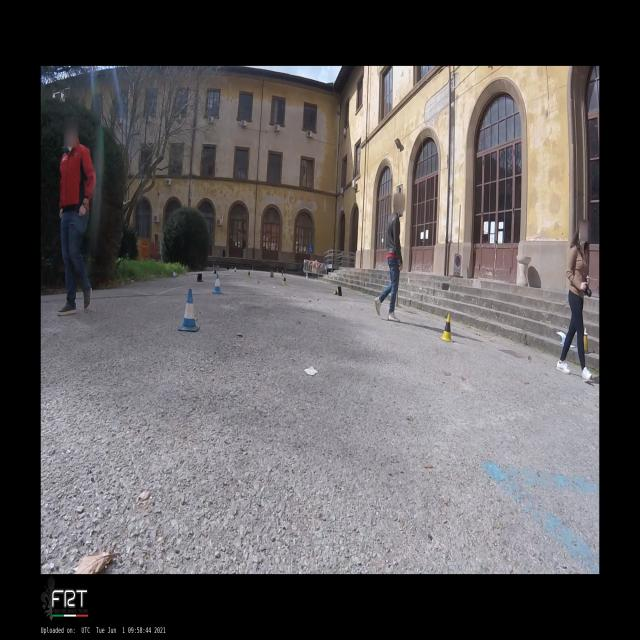blue_cone: (178, 289, 200, 332), (212, 274, 222, 294), (173, 270, 176, 278), (234, 266, 237, 272), (218, 264, 220, 268), (212, 263, 214, 267)
unknown_cone: (584, 327, 589, 354), (197, 274, 204, 282), (270, 272, 274, 278), (212, 270, 216, 274), (226, 266, 229, 270)
yellow_cone: (439, 314, 453, 342), (333, 286, 342, 297), (282, 274, 286, 286), (247, 270, 251, 278), (281, 270, 284, 277), (276, 268, 278, 273), (252, 266, 253, 271)
